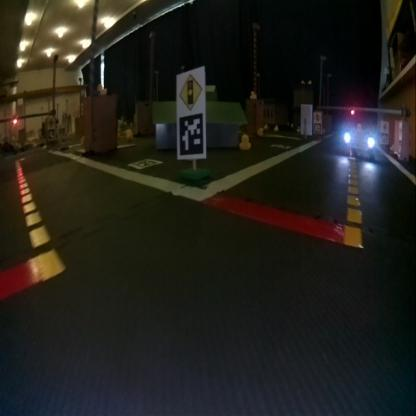Duckie: (238, 133, 250, 150), (250, 91, 256, 98)
Duckiebot: (343, 130, 376, 159)
QR code: (178, 113, 204, 156), (129, 158, 162, 169), (271, 140, 290, 148), (314, 122, 321, 133)
Signal sign: (179, 72, 203, 110), (314, 112, 320, 120)
Traffic light: (12, 116, 17, 124)
